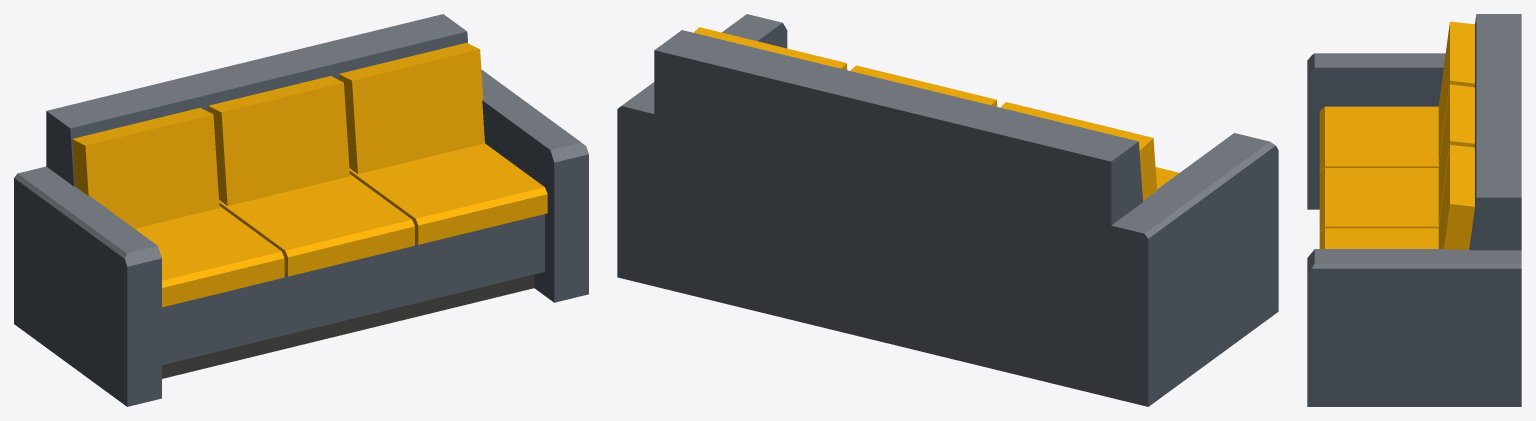
The model's file is sofa.glb.
3 renders of one model, left to right at view 1: azimuth 30°, elevation 25°; view 2: azimuth 150°, elevation 25°; view 3: azimuth 270°, elevation 25°, orthographic. The views are drawn at different scales.
Visible parts, largest first — view 1: sofa; view 2: sofa; view 3: sofa.
Boxes of the visible parts, x1,y1,x2,y2 form: sofa: (14,14,588,406); sofa: (617,14,1278,406); sofa: (1307,14,1521,406).
Bounding box in the file's own units: 2 × 0.85 × 0.85.
